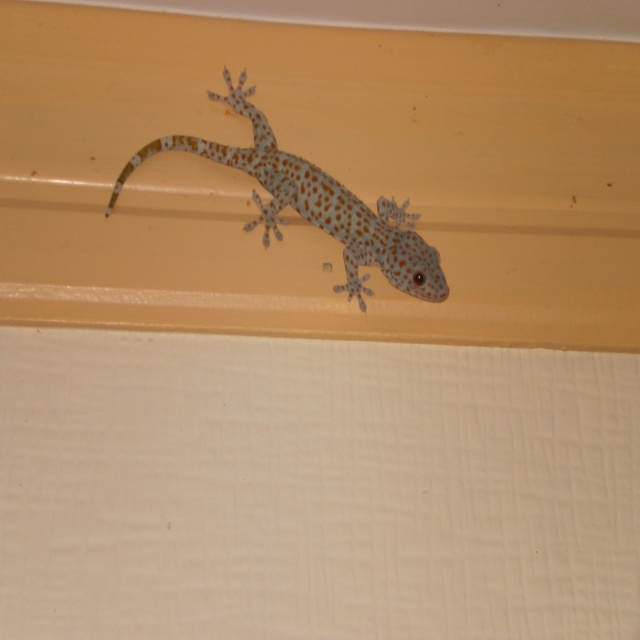Lizard: (103, 65, 450, 311)
